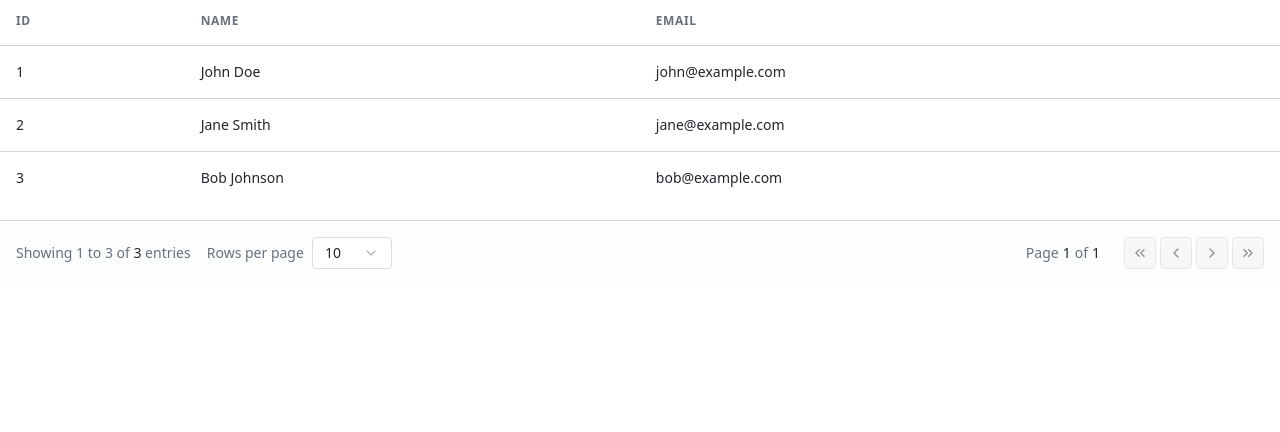
Test: DataTable › keeps the page-size control available when data fits on one page
This screenshot has width=1280, height=432.
Click the dropdown named "Rows per page": click(352, 252) x1=312 y1=236 x2=392 y2=268
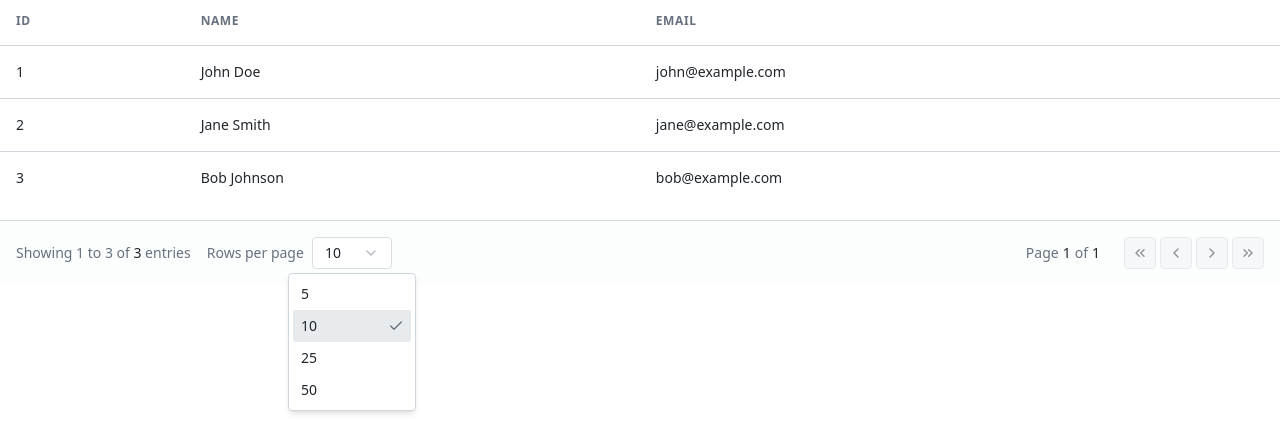
Click the option "5": click(305, 294) x1=301 y1=284 x2=309 y2=303
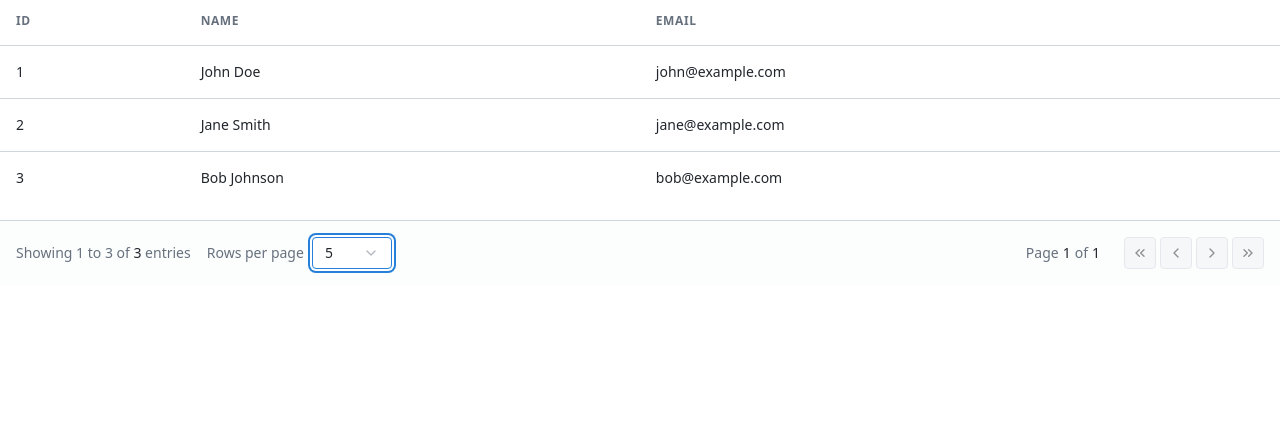
Expected: the 3rd button named "go to next page" is disabled, x1=1196 y1=236 x2=1228 y2=268
Result: the dropdown named "Rows per page" reads "5" at x1=312 y1=236 x2=392 y2=268
